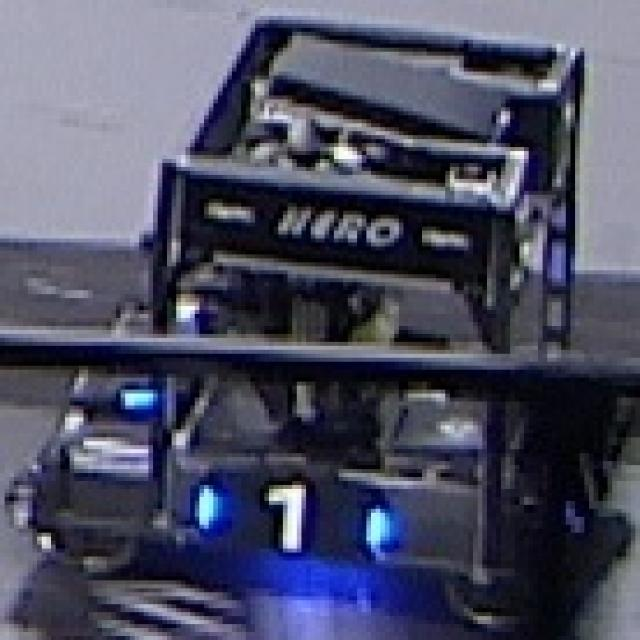B1: (176, 469, 399, 561)
